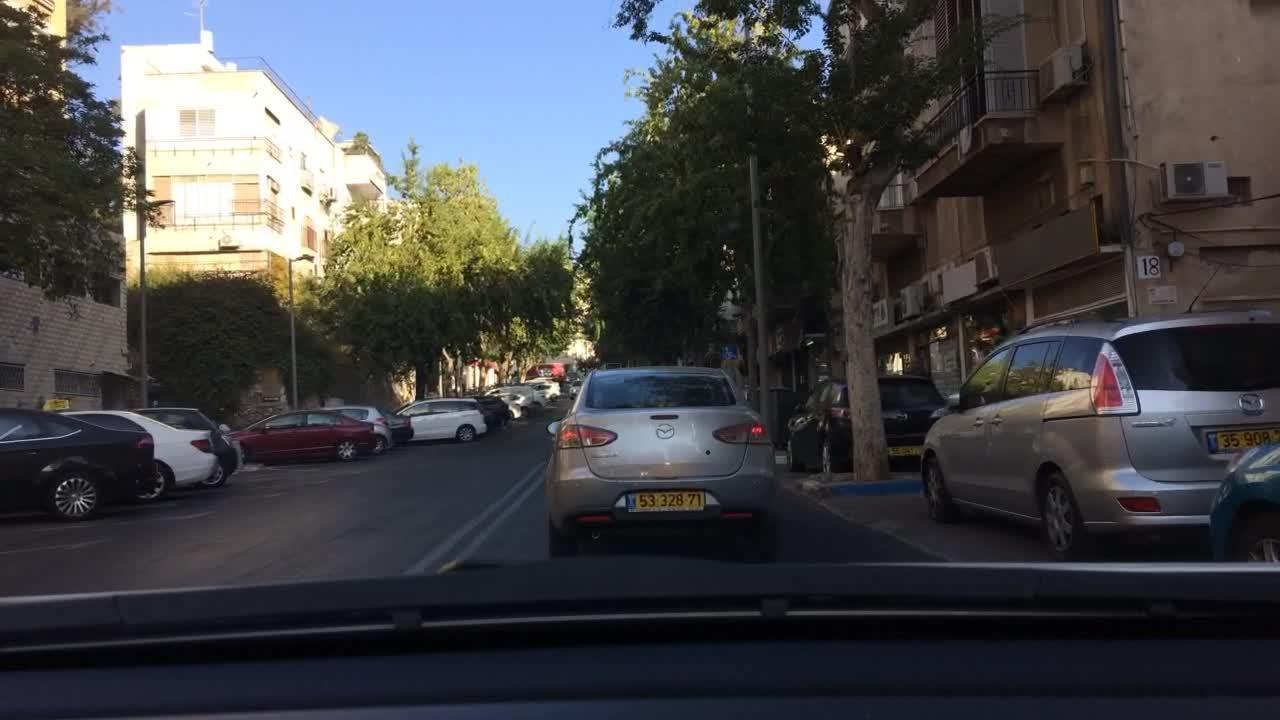Mazda: (1233, 390, 1270, 419), (653, 420, 678, 443)
